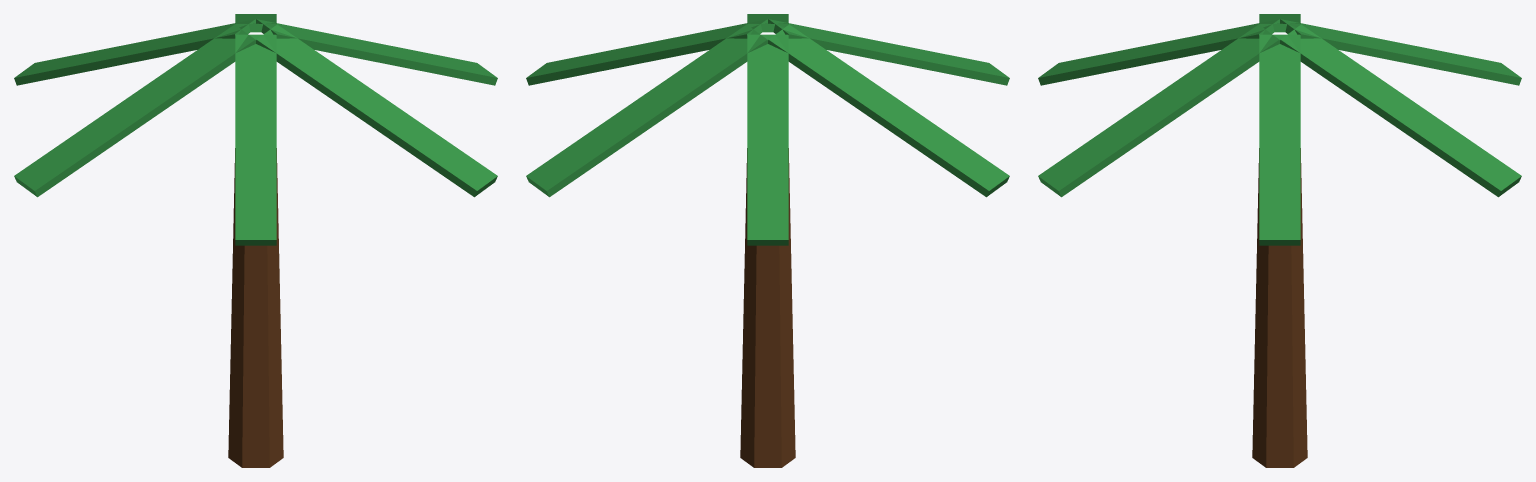
File: palm_small.glb
3 views of the same model, side by side, from view 1: azimuth 30°, elevation 25°; view 2: azimuth 150°, elevation 25°; view 3: azimuth 270°, elevation 25° (orthographic).
Parts seen in each view (by area): view 1: palm_small; view 2: palm_small; view 3: palm_small.
Boxes of the visible parts, x1,y1,x2,y2 form: palm_small: (14,14,497,467); palm_small: (526,14,1009,467); palm_small: (1038,14,1521,467).
Bounding box in the file's own units: 1.93 × 1.71 × 1.75.
